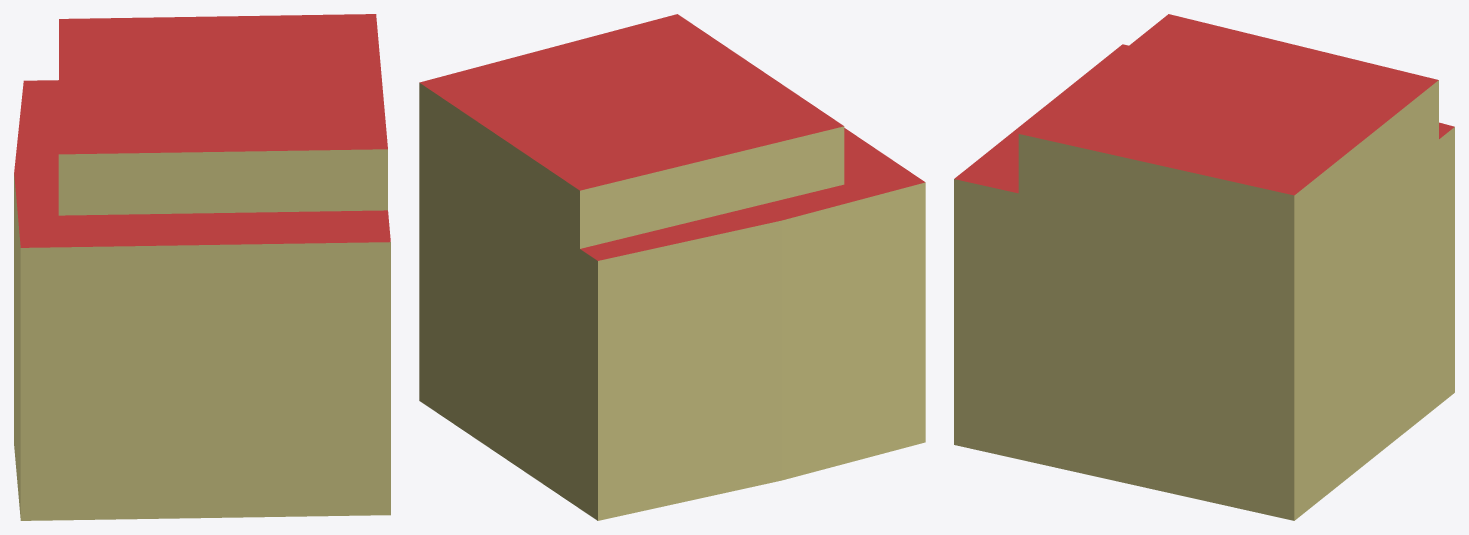
3 renders of one model, left to right at view 1: azimuth 30°, elevation 25°; view 2: azimuth 150°, elevation 25°; view 3: azimuth 270°, elevation 25°, orthographic. The views are drawn at different scales.
Visible parts, largest first — view 1: group_4, group_6, group_7, group_3; view 2: group_4, group_7, group_6, group_3; view 3: group_7, group_6, group_4, group_3.
Part boxes in pixels (box(x1,y1,x2,y2)): group_4: box(14, 173, 390, 520); group_6: box(58, 14, 387, 154); group_7: box(58, 149, 387, 215); group_3: box(14, 80, 390, 247); group_4: box(559, 182, 925, 520); group_7: box(419, 83, 844, 494); group_6: box(419, 14, 843, 190); group_3: box(580, 128, 925, 260); group_7: box(1018, 80, 1438, 520); group_6: box(1019, 14, 1438, 195); group_4: box(954, 127, 1454, 468); group_3: box(954, 44, 1454, 193).
Bounding box in the file's own units: 18.4 × 18.48 × 13.25.
